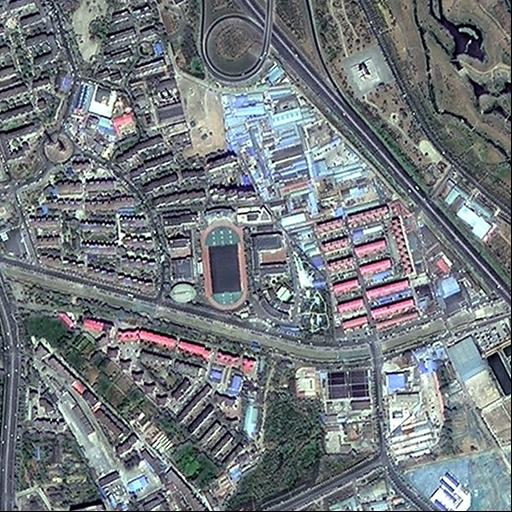school: (161, 209, 329, 343)
